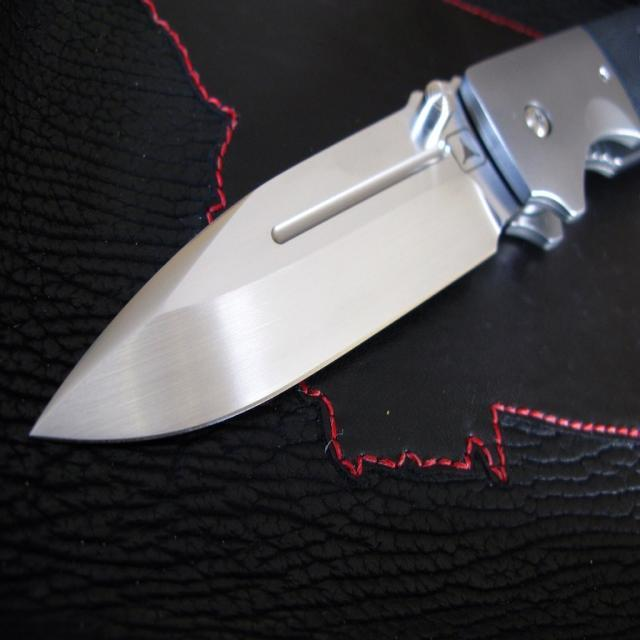Knife: (32, 11, 640, 441)
